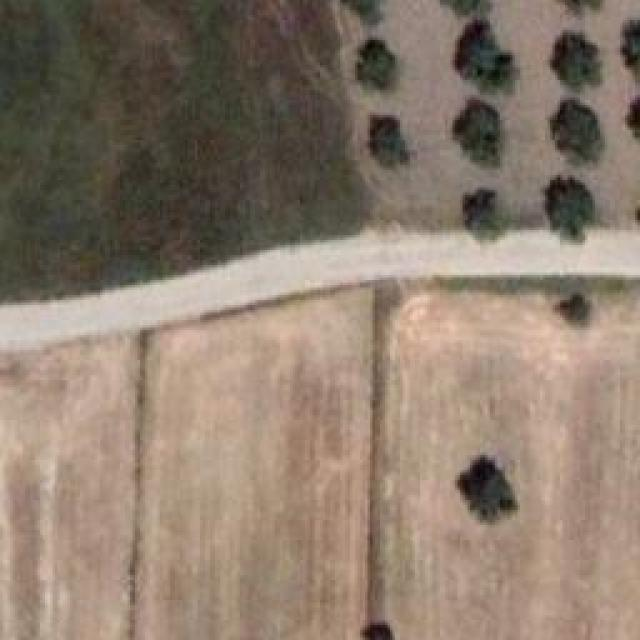Tree: (455, 20, 517, 84), (455, 460, 512, 519), (455, 102, 503, 166), (545, 175, 593, 239), (550, 108, 599, 161), (550, 38, 597, 86), (462, 190, 505, 241), (357, 43, 399, 92), (370, 115, 408, 162), (558, 282, 594, 323), (622, 20, 640, 70), (625, 95, 640, 140)
